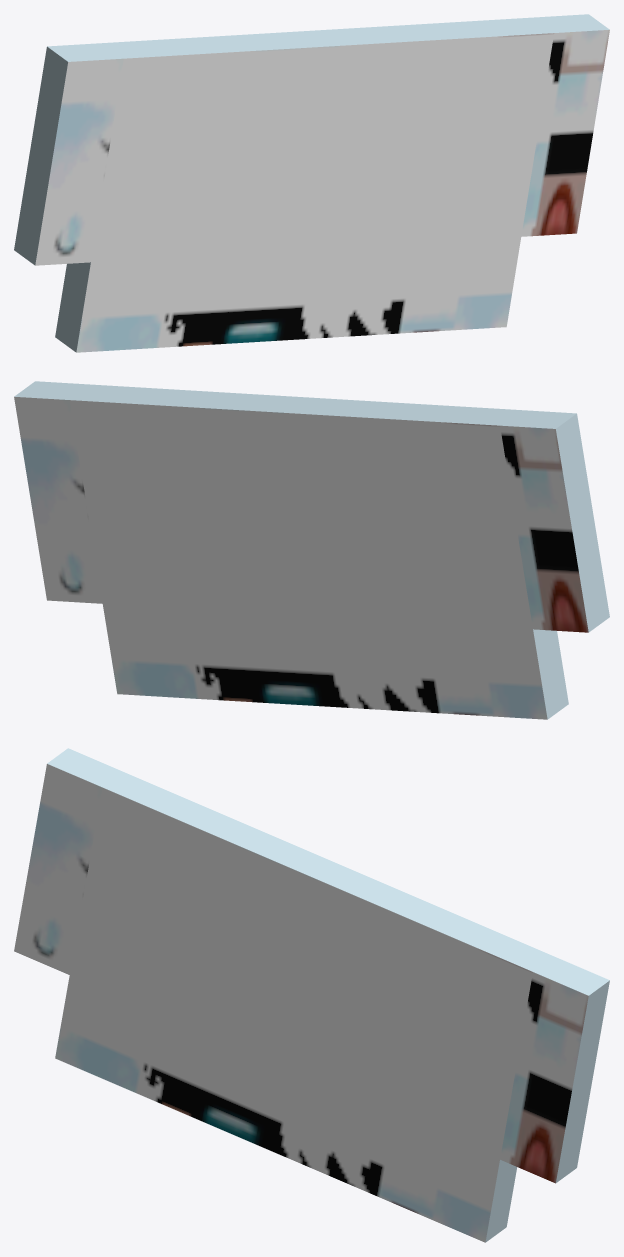
Rendered from static.ico.obj.
3 views of the same model, one above another, from view 1: azimuth 30°, elevation 25°; view 2: azimuth 150°, elevation 25°; view 3: azimuth 330°, elevation 25° (orthographic).
Size of the model in its own units: 4.79 by 2.96 by 0.3066.
